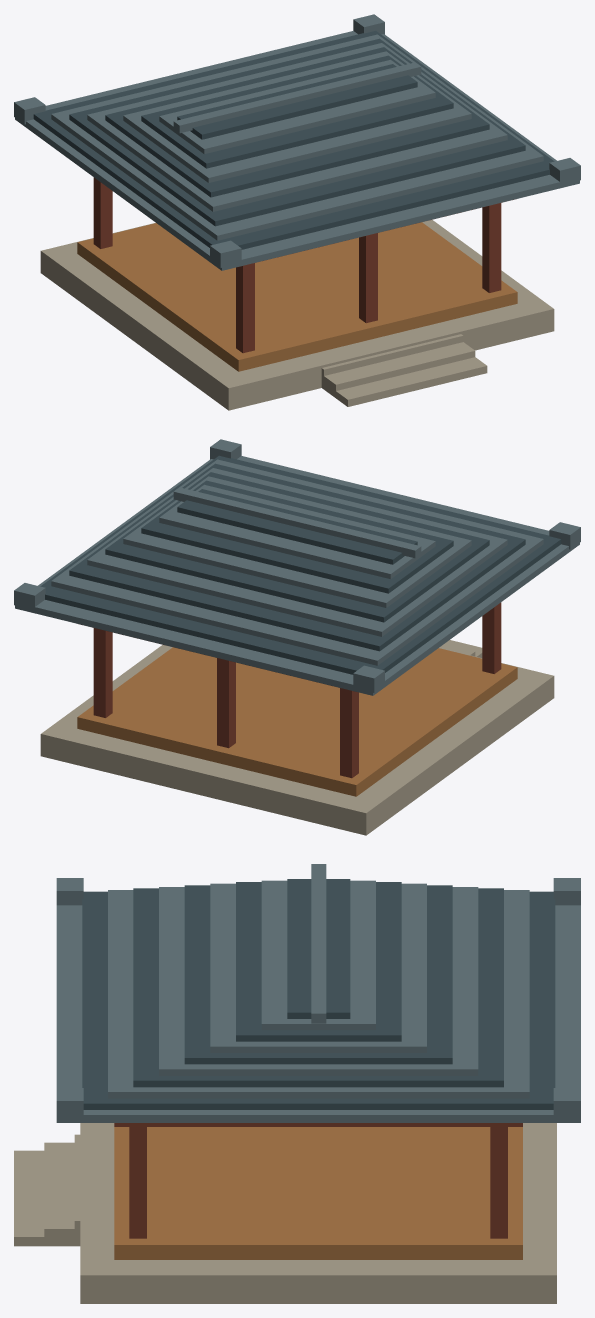
Rendered from heritage-pavilion.glb.
3 renders of one model, top to bottom at view 1: azimuth 30°, elevation 25°; view 2: azimuth 150°, elevation 25°; view 3: azimuth 270°, elevation 25°, orthographic. The views are drawn at different scales.
Visible parts, largest first — view 1: Root_roofLight, Root_roof, Root_beam, Root_stone, Root_wood; view 2: Root_roofLight, Root_roof, Root_beam, Root_stone, Root_wood; view 3: Root_roofLight, Root_roof, Root_beam, Root_stone, Root_wood.
Boxes of the visible parts, x1,y1,x2,y2 form: Root_roofLight: [14, 14, 580, 270]; Root_roof: [33, 30, 554, 249]; Root_beam: [77, 222, 517, 371]; Root_stone: [40, 220, 554, 410]; Root_wood: [93, 177, 516, 353]; Root_roofLight: [14, 439, 580, 695]; Root_roof: [40, 455, 561, 674]; Root_beam: [77, 647, 517, 796]; Root_stone: [40, 640, 554, 835]; Root_wood: [78, 602, 501, 778]; Root_roofLight: [56, 864, 580, 1122]; Root_roof: [82, 879, 555, 1109]; Root_beam: [114, 1127, 522, 1259]; Root_stone: [14, 1123, 556, 1303]; Root_wood: [114, 1123, 522, 1238].
Bounding box in the file's own units: 7.75 × 4.28 × 8.32.
